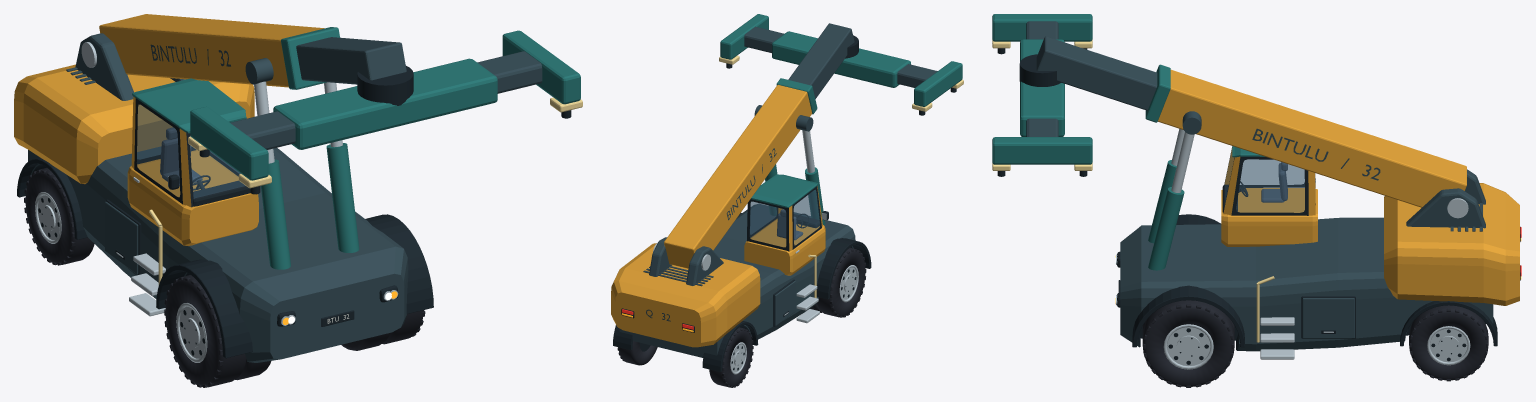
The picture shows the model from 3 angles, left to right: view 1: azimuth 30°, elevation 25°; view 2: azimuth 150°, elevation 25°; view 3: azimuth 270°, elevation 25°; orthographic projection. The views are drawn at different scales.
Visible parts, largest first — view 1: Bintulu Quay Reach Stacker; view 2: Bintulu Quay Reach Stacker; view 3: Bintulu Quay Reach Stacker.
Part boxes in pixels (x1,y1,x2,y2): Bintulu Quay Reach Stacker: (14,14,582,387); Bintulu Quay Reach Stacker: (611,14,963,387); Bintulu Quay Reach Stacker: (992,14,1521,387).
Size of the model in its own units: 5.48 by 5.91 by 9.3.
